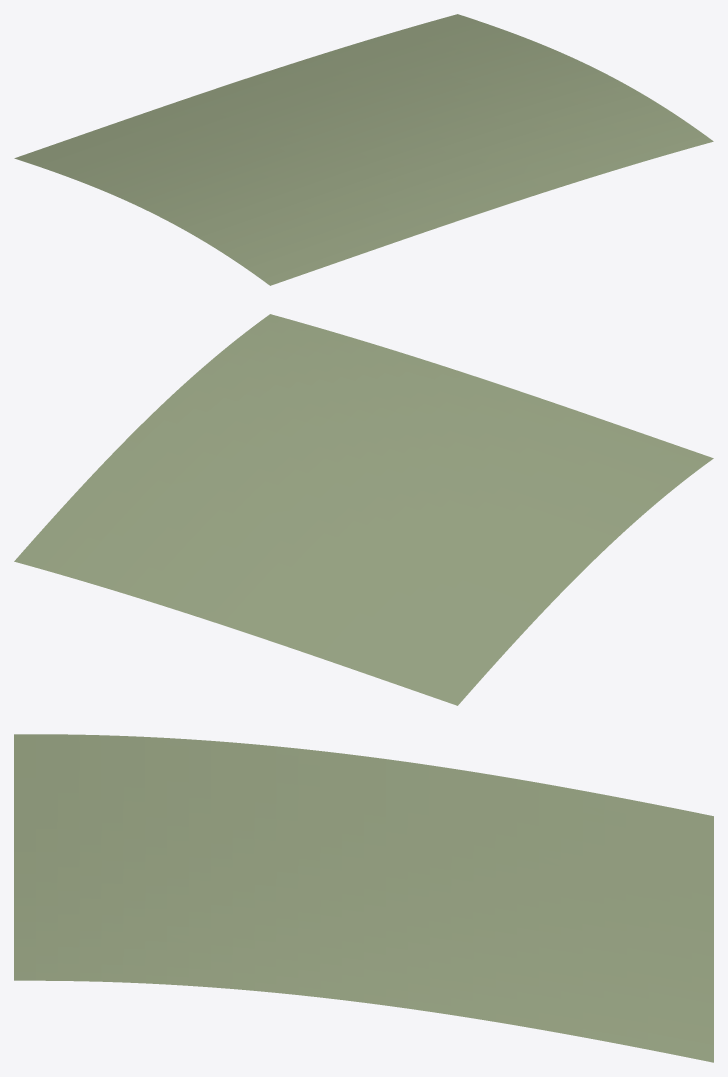
The model's file is valley-1-0.glb.
3 views of the same model, one above another, from view 1: azimuth 30°, elevation 25°; view 2: azimuth 150°, elevation 25°; view 3: azimuth 270°, elevation 25° (orthographic). The views are drawn at different scales.
Parts seen in each view (by area): view 1: valley-1-0; view 2: valley-1-0; view 3: valley-1-0.
Part boxes in pixels (x1=…): valley-1-0: x1=14, y1=14, x2=713, y2=285; valley-1-0: x1=14, y1=314, x2=713, y2=705; valley-1-0: x1=14, y1=734, x2=713, y2=1062.
Bounding box in the file's own units: 256 × 52.98 × 256.
